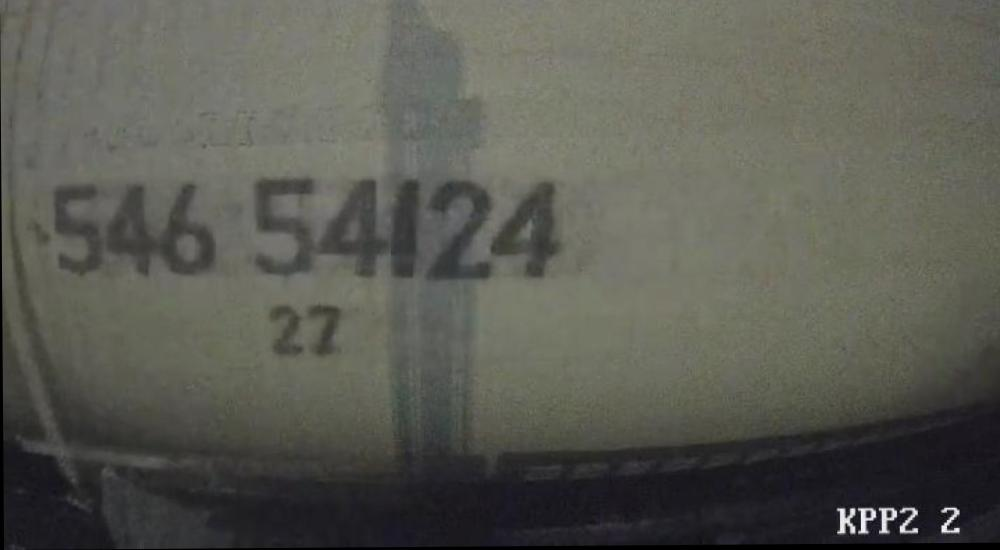Wagon-number: (47, 171, 563, 291)
